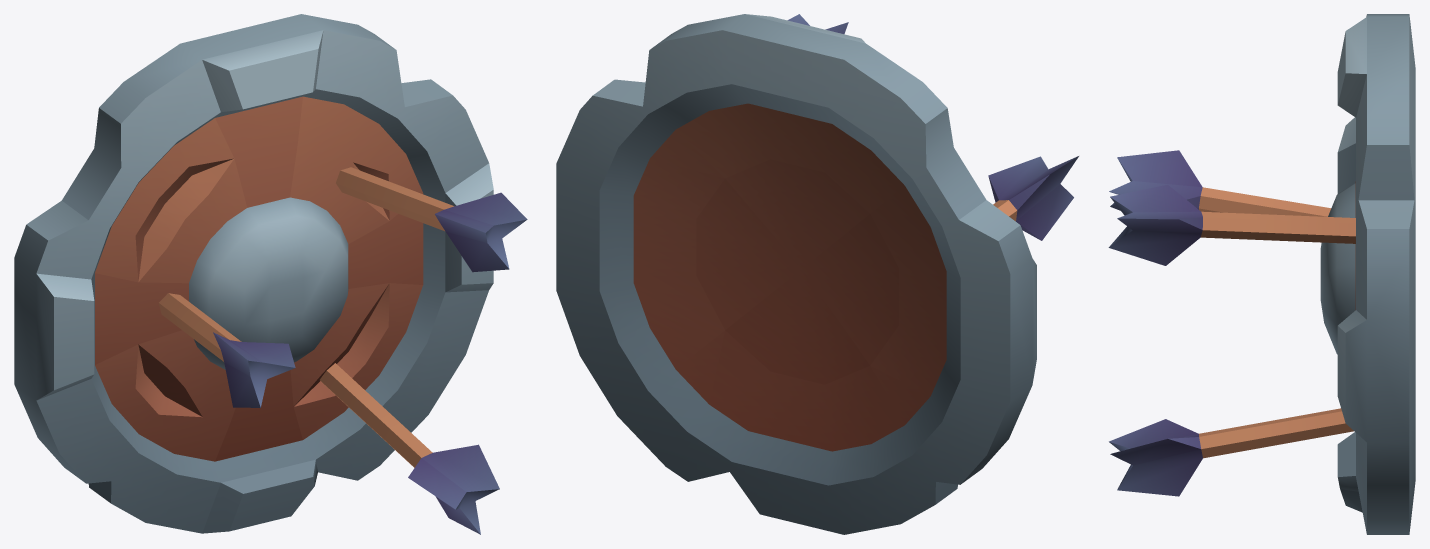
The model's file is Skeleton_Shield_Small_B.fbx.
The picture shows the model from 3 angles, left to right: view 1: azimuth 30°, elevation 25°; view 2: azimuth 150°, elevation 25°; view 3: azimuth 270°, elevation 25°; orthographic projection. The views are drawn at different scales.
Visible parts, largest first — view 1: Skeleton_Shield_Small_B; view 2: Skeleton_Shield_Small_B; view 3: Skeleton_Shield_Small_B.
Part boxes in pixels (box(x1,y1,x2,y2)): Skeleton_Shield_Small_B: box(14, 14, 527, 534); Skeleton_Shield_Small_B: box(556, 14, 1078, 534); Skeleton_Shield_Small_B: box(1108, 14, 1415, 534).
Size of the model in its own units: 0.8322 by 0.8322 by 0.5058.
